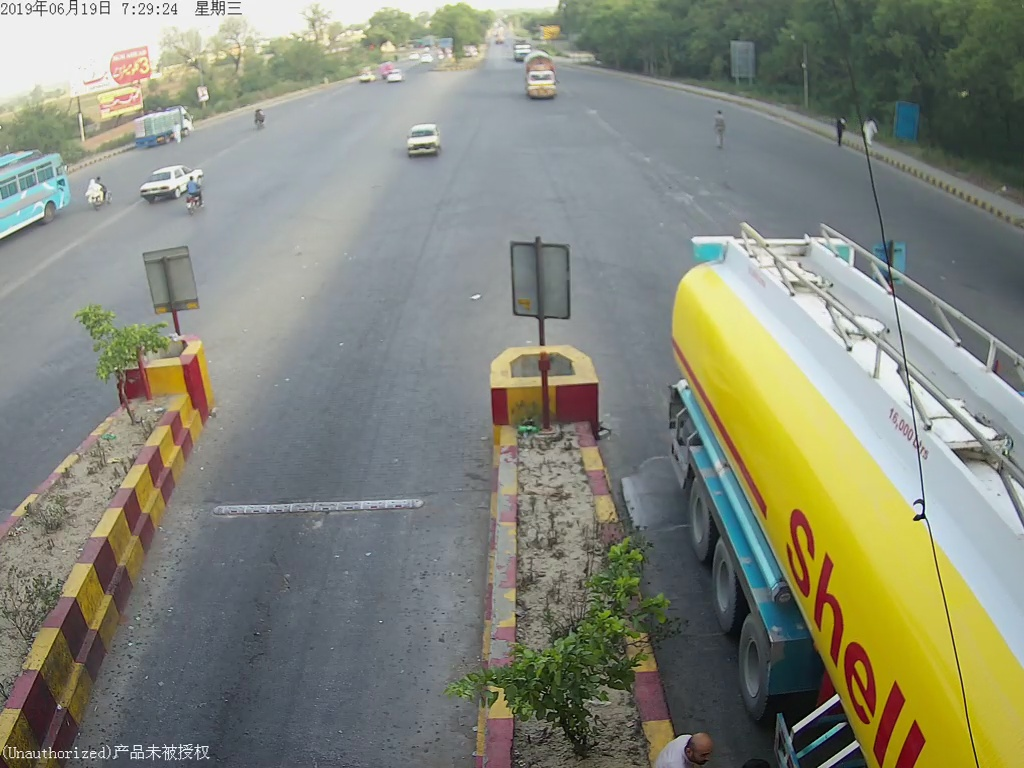Cat-1: (393, 116, 446, 167)
